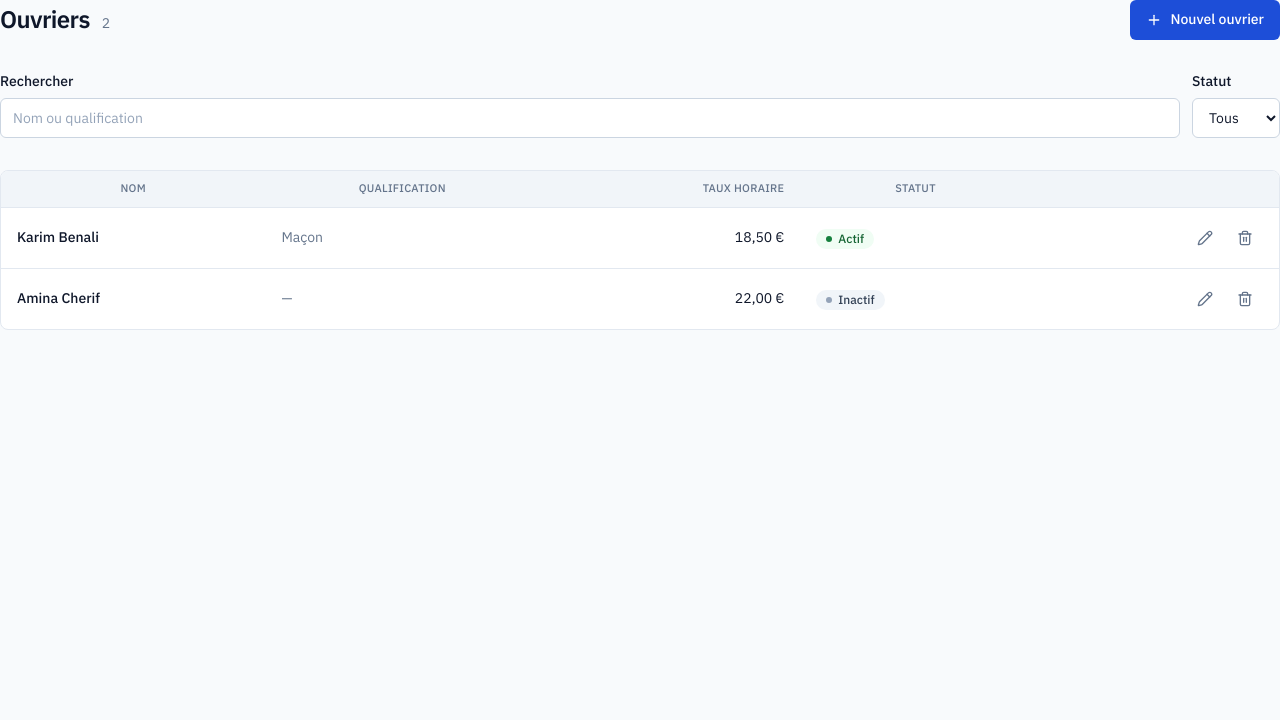
Scenario: WorkerListPage › opens the edit drawer prefilled with the row that was clicked
Click the button named "Modifier Karim Benali" at (1205,238), box left=1187, top=220, right=1223, bottom=256
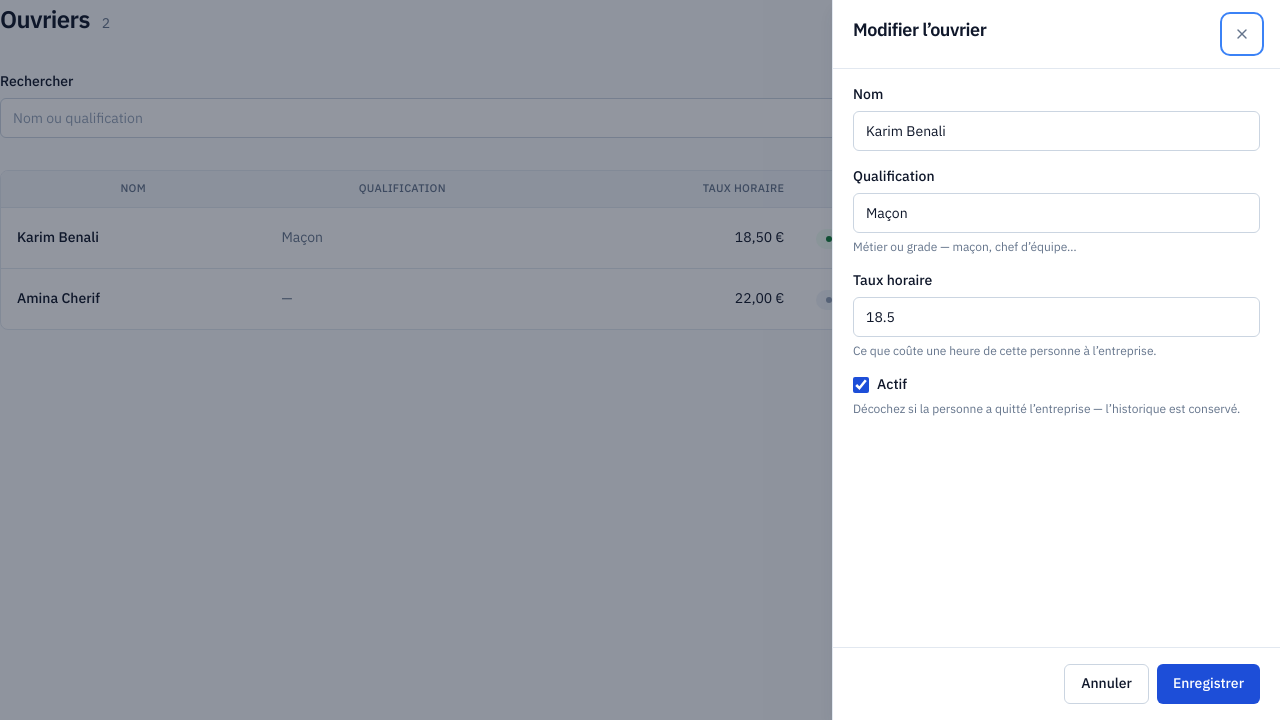
Now the heading "Modifier l’ouvrier" is shown, box left=853, top=16, right=986, bottom=44
Now the field labelled "Nom" holds "Karim Benali", box left=853, top=111, right=1260, bottom=151
